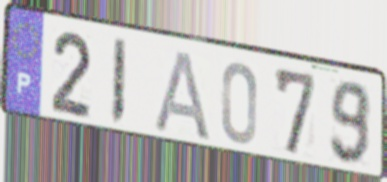0: (219, 59, 259, 147)
2: (50, 29, 94, 123)
7: (272, 65, 320, 158)
9: (327, 78, 373, 167)
A: (152, 47, 213, 144)
I: (108, 35, 129, 129)
